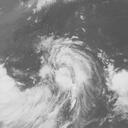cyclone: (36, 35, 97, 107)
